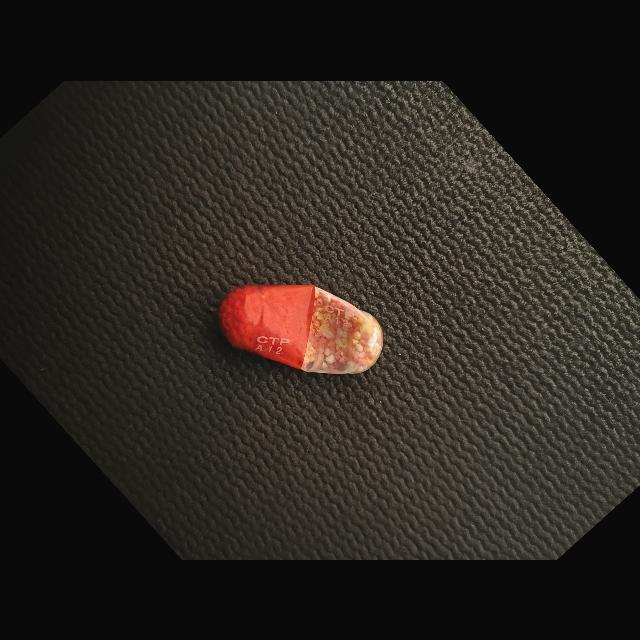Defective Capsule: (219, 284, 383, 373)
